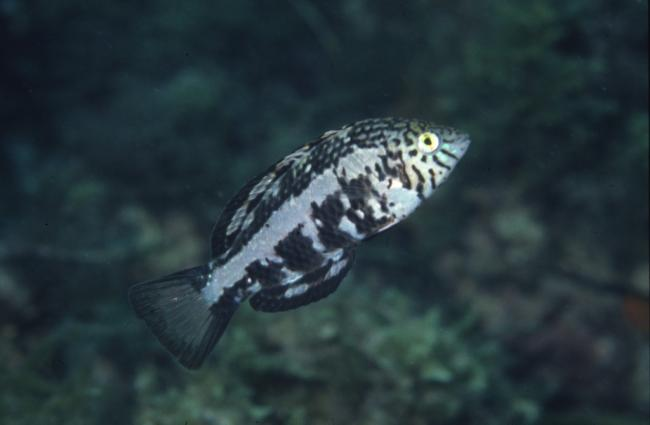fish: (129, 115, 471, 372)
